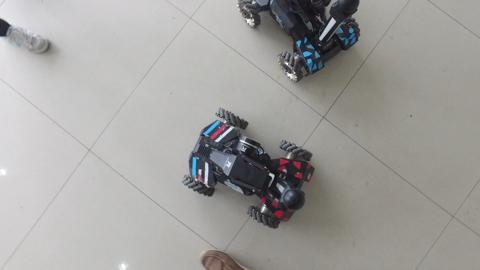chariot: (176, 107, 319, 231), (240, 1, 364, 85)
